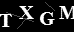G: (38, 11, 55, 26)
M: (58, 5, 74, 20)
T: (1, 13, 12, 27)
X: (18, 5, 35, 20)
